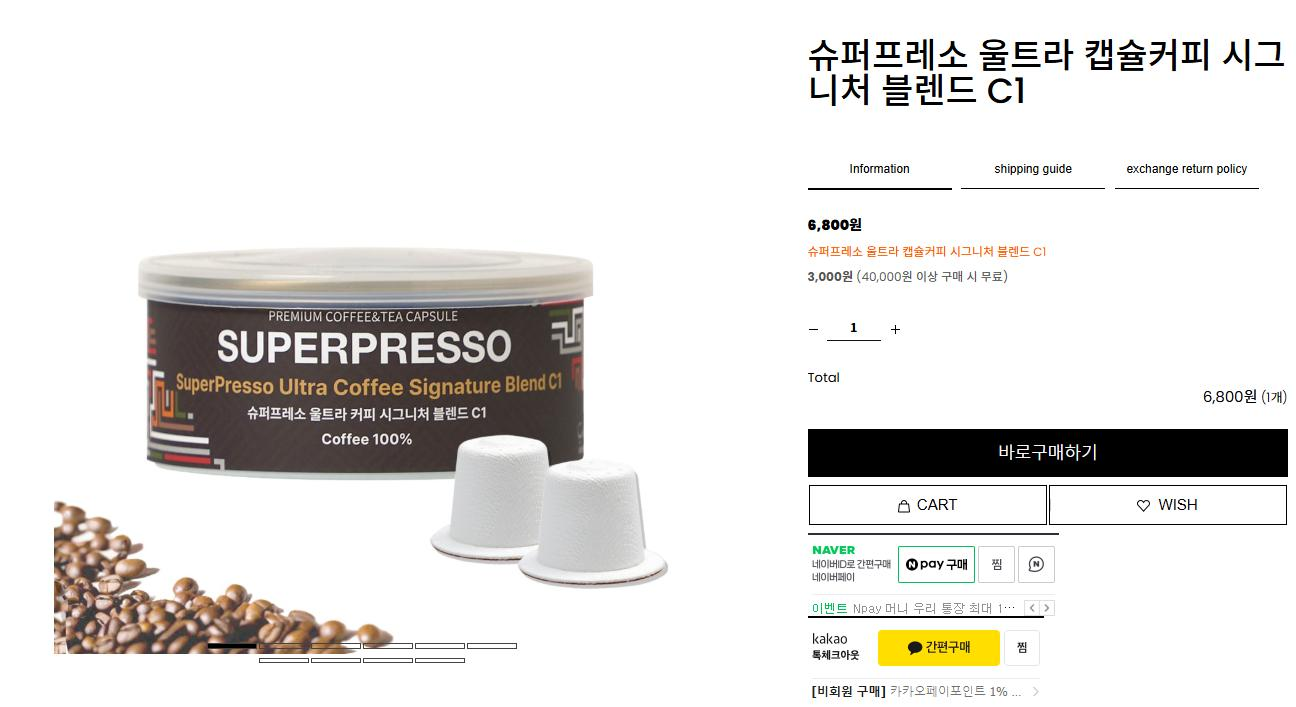button: (807, 427, 1290, 477), (1051, 485, 1287, 526), (806, 484, 1046, 524), (1112, 147, 1271, 197), (806, 148, 955, 198), (958, 148, 1108, 196), (813, 679, 1040, 707), (877, 629, 1000, 667), (897, 547, 974, 583), (1004, 628, 1042, 668), (979, 547, 1015, 584), (1021, 547, 1055, 584), (1024, 596, 1057, 617)
checkbox: (802, 306, 908, 347)
